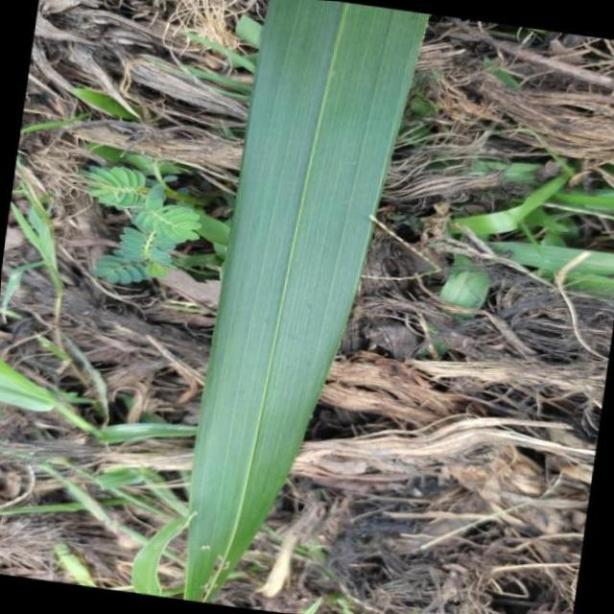Boron: (162, 0, 436, 608)
